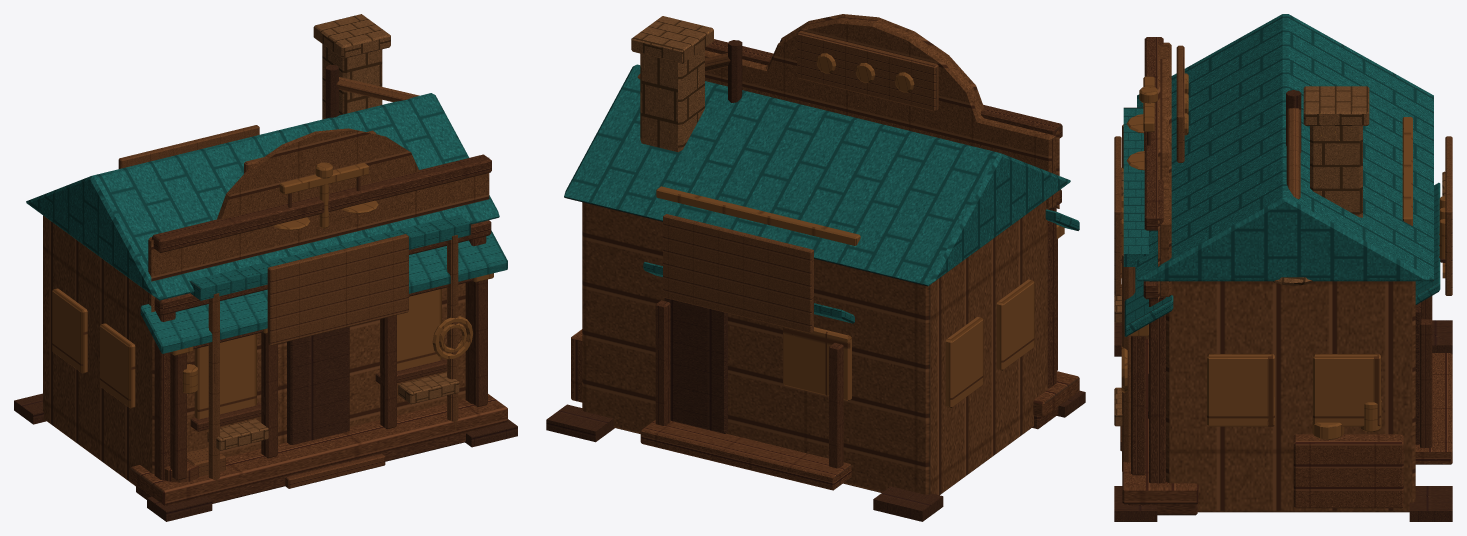
Rendered from assay-office.e7.glb.
3 views of the same model, side by side, from view 1: azimuth 30°, elevation 25°; view 2: azimuth 150°, elevation 25°; view 3: azimuth 270°, elevation 25° (orthographic). The views are drawn at different scales.
Visible parts, largest first — view 1: AssayOfficeE7; view 2: AssayOfficeE7; view 3: AssayOfficeE7.
Part boxes in pixels (left/top/right/bottom): AssayOfficeE7: left=14, top=14, right=517, bottom=521; AssayOfficeE7: left=546, top=14, right=1085, bottom=521; AssayOfficeE7: left=1114, top=14, right=1452, bottom=521.
Bounding box in the file's own units: 4.42 × 4.2 × 3.32.
Materials: 1 (1 with a texture image).
